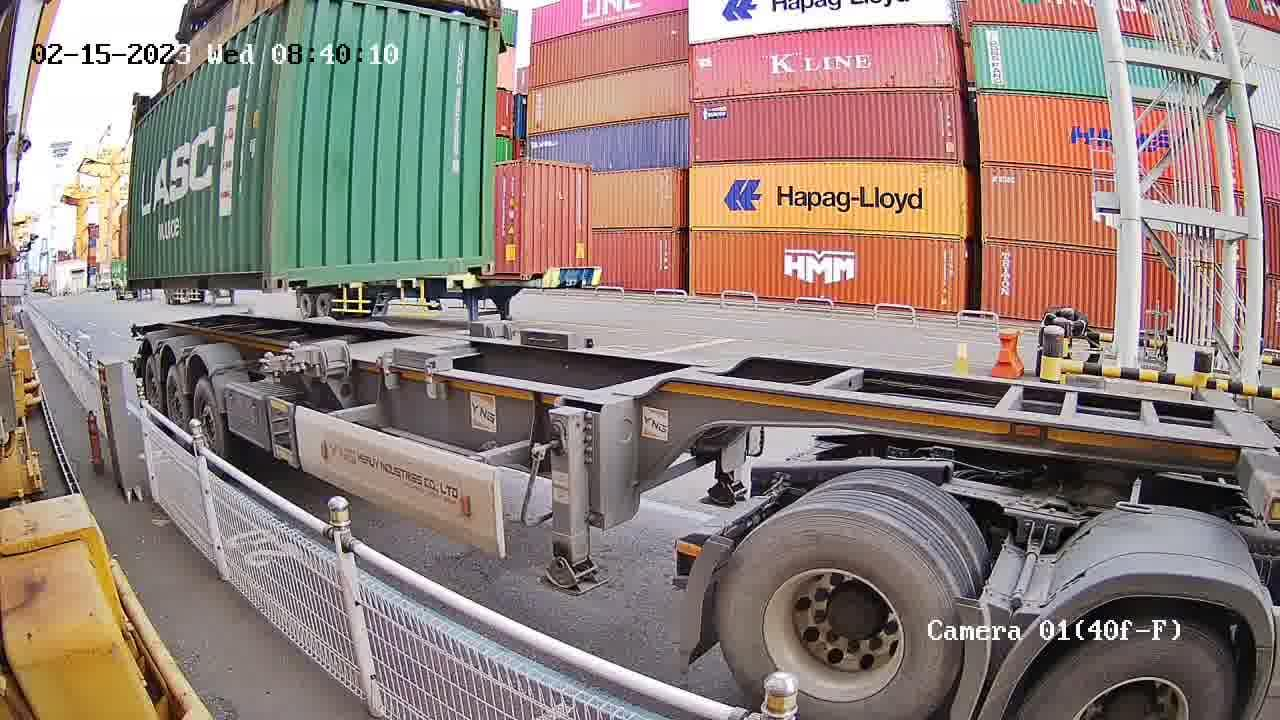Cone: (253, 349, 282, 384)
Hole_L: (272, 246, 316, 292)
Hole_R: (235, 249, 275, 292), (456, 236, 496, 276)
Tire: (710, 506, 966, 719), (1018, 625, 1242, 719), (192, 380, 227, 456), (166, 368, 189, 426), (143, 356, 163, 411)
